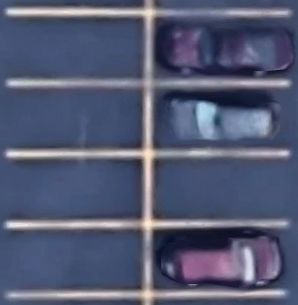Occupied: (148, 10, 289, 84), (148, 83, 289, 154), (147, 223, 287, 293)
Vacant: (6, 10, 149, 84), (6, 153, 148, 224), (6, 224, 147, 295), (6, 84, 148, 154), (148, 154, 288, 225)
